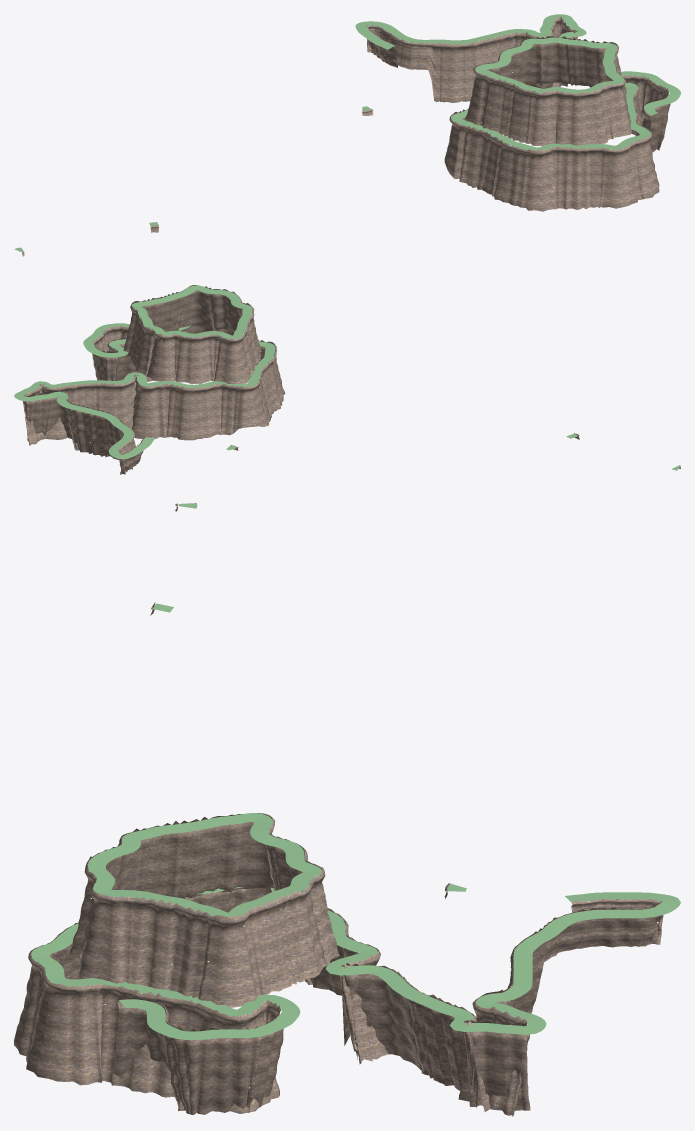
The model's file is CliffWall_plateau_southwest.glb.
3 views of the same model, one above another, from view 1: azimuth 30°, elevation 25°; view 2: azimuth 150°, elevation 25°; view 3: azimuth 270°, elevation 25° (orthographic). The views are drawn at different scales.
Parts seen in each view (by area): view 1: CliffWall_plateau_southwest-rock1, CliffWall_plateau_southwest-rock0, CliffWall_plateau_southwest-lip1, CliffWall_plateau_southwest-lip0; view 2: CliffWall_plateau_southwest-rock1, CliffWall_plateau_southwest-rock0, CliffWall_plateau_southwest-lip1, CliffWall_plateau_southwest-lip0; view 3: CliffWall_plateau_southwest-rock1, CliffWall_plateau_southwest-rock0, CliffWall_plateau_southwest-lip1, CliffWall_plateau_southwest-lip0.
Boxes of the visible parts, box(x1,y1,x2,y2) form: CliffWall_plateau_southwest-rock1: box(366, 17, 670, 211); CliffWall_plateau_southwest-rock0: box(465, 36, 631, 145); CliffWall_plateau_southwest-lip1: box(355, 14, 680, 150); CliffWall_plateau_southwest-lip0: box(475, 37, 624, 93); CliffWall_plateau_southwest-rock1: box(23, 325, 285, 474); CliffWall_plateau_southwest-rock0: box(123, 285, 261, 384); CliffWall_plateau_southwest-lip1: box(14, 323, 275, 459); CliffWall_plateau_southwest-lip0: box(132, 285, 252, 338); CliffWall_plateau_southwest-rock1: box(14, 888, 663, 1116); CliffWall_plateau_southwest-rock0: box(69, 813, 339, 1007); CliffWall_plateau_southwest-lip1: box(31, 887, 680, 1039); CliffWall_plateau_southwest-lip0: box(87, 813, 322, 917).
Bounding box in the file's own units: 2496 × 381 × 1310.
Materials: 4 (1 with a texture image).
